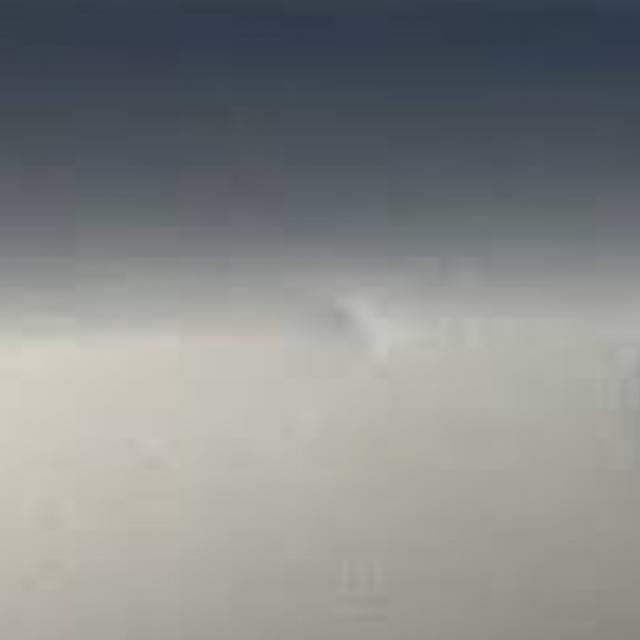dents: (266, 274, 427, 390)
